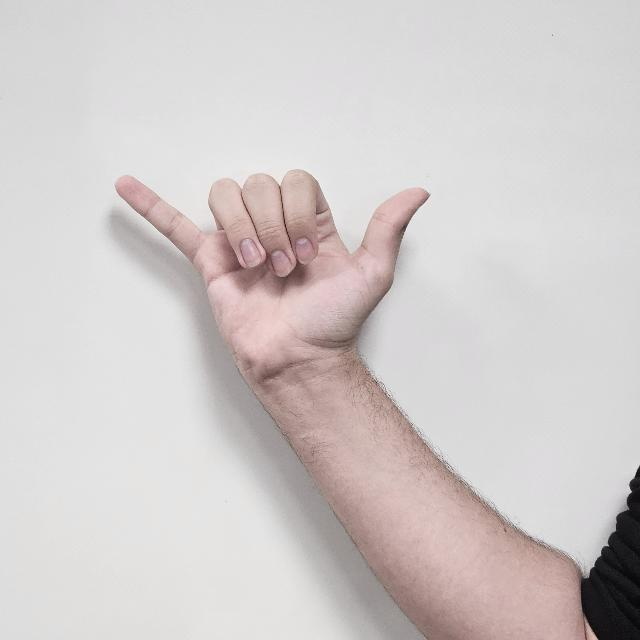Direita: (110, 168, 454, 382)
